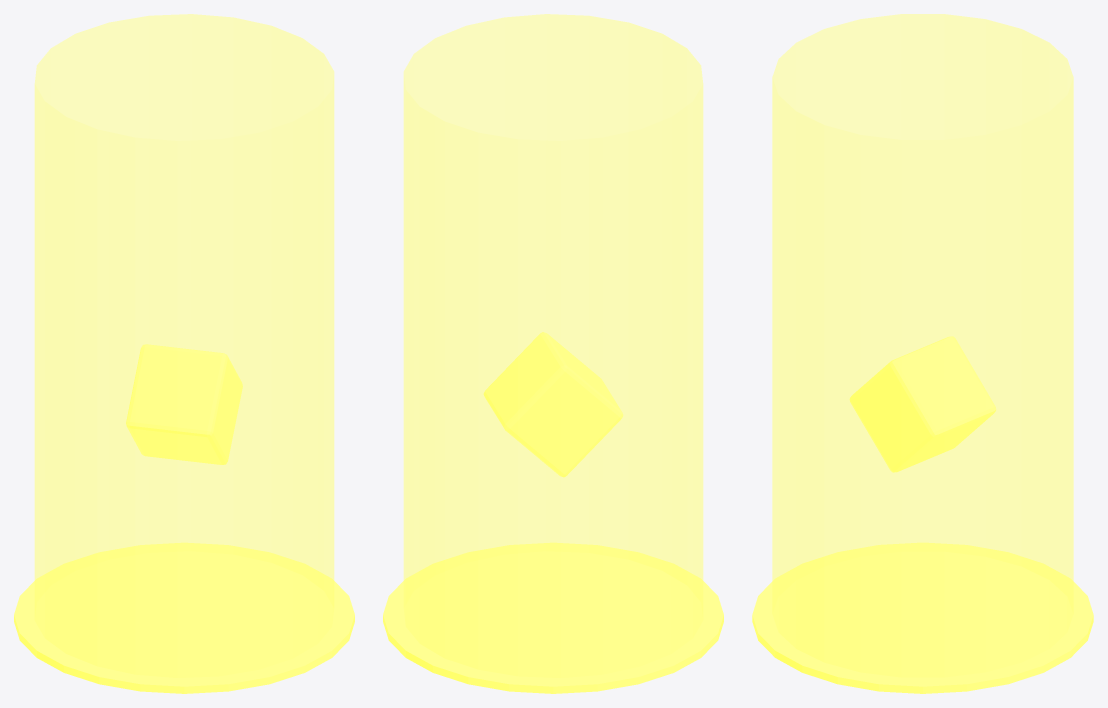
The model's file is item_marker.glb.
The picture shows the model from 3 angles, left to right: view 1: azimuth 30°, elevation 25°; view 2: azimuth 150°, elevation 25°; view 3: azimuth 270°, elevation 25°; orthographic projection.
Parts seen in each view (by area): view 1: Pillar, Ring, Chevron; view 2: Pillar, Ring, Chevron; view 3: Pillar, Ring, Chevron.
Boxes of the visible parts, x1,y1,x2,y2 form: Pillar: (34, 14, 334, 677); Ring: (14, 542, 354, 693); Chevron: (126, 344, 242, 464); Pillar: (403, 14, 703, 677); Ring: (383, 542, 723, 693); Chevron: (483, 332, 623, 477); Pillar: (772, 14, 1073, 677); Ring: (752, 542, 1093, 693); Chevron: (849, 336, 996, 472).
Bounding box in the file's own units: 3.4 × 6 × 3.4.
